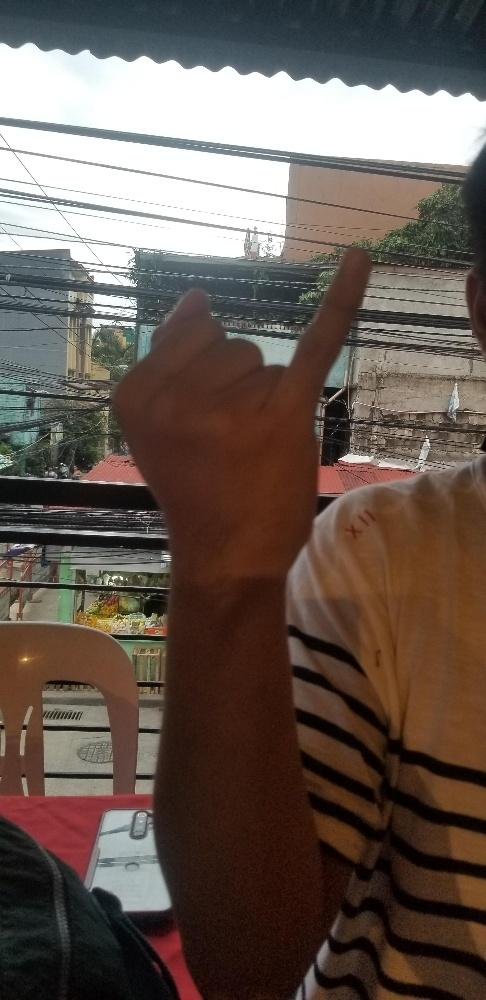j: (110, 244, 370, 564)
